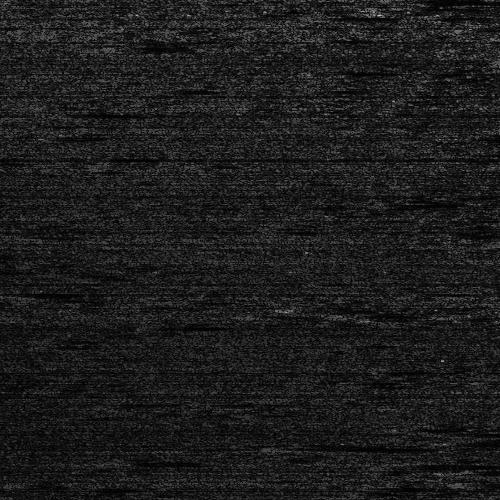rock: (440, 466, 493, 475), (94, 458, 167, 463), (278, 443, 341, 448), (484, 239, 500, 244)
shadow: (310, 443, 437, 448), (131, 458, 222, 463), (467, 466, 500, 475)
